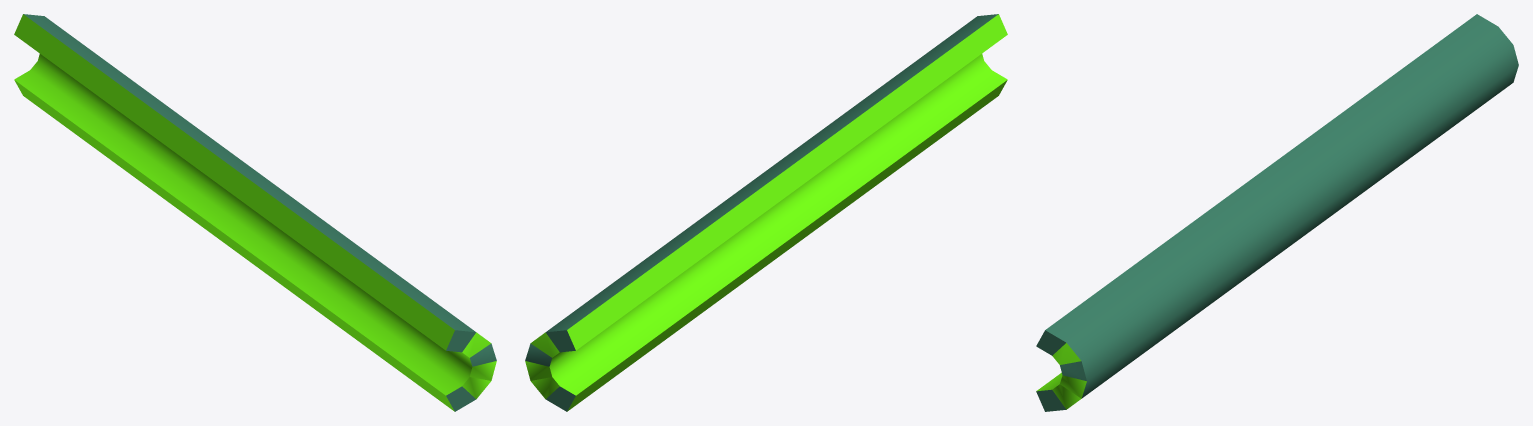
Rendered from CeleryStickCollider.obj.
The picture shows the model from 3 angles, left to right: view 1: azimuth 30°, elevation 25°; view 2: azimuth 150°, elevation 25°; view 3: azimuth 330°, elevation 25°; orthographic projection.
Parts seen in each view (by area): view 1: celeryStick.001, celeryStick, celeryStick.005, celeryStick.004, celeryStick.003; view 2: celeryStick.001, celeryStick, celeryStick.005, celeryStick.004, celeryStick.003; view 3: celeryStick.002, celeryStick.001, celeryStick.003, celeryStick.004, celeryStick.
Part boxes in pixels (box(x1,y1,x2,y2)): celeryStick.001: box(14, 14, 476, 352); celeryStick: box(14, 70, 476, 411); celeryStick.005: box(30, 61, 490, 398); celeryStick.004: box(38, 53, 496, 380); celeryStick.003: box(451, 343, 496, 366); celeryStick.001: box(545, 14, 1007, 352); celeryStick: box(545, 70, 1007, 411); celeryStick.005: box(531, 61, 991, 398); celeryStick.004: box(525, 53, 983, 380); celeryStick.003: box(525, 343, 570, 366); celeryStick.002: box(1052, 26, 1512, 364); celeryStick.001: box(1036, 14, 1497, 355); celeryStick.003: box(1060, 45, 1518, 381); celeryStick.004: box(1060, 65, 1518, 398); celeryStick: box(1036, 372, 1066, 411).
Size of the model in its own units: 0.0147 by 0.0226 by 0.216.
